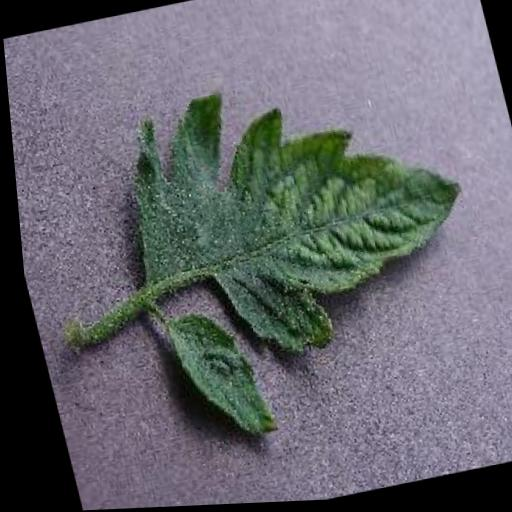Mosaic Virus: (93, 42, 512, 457)
